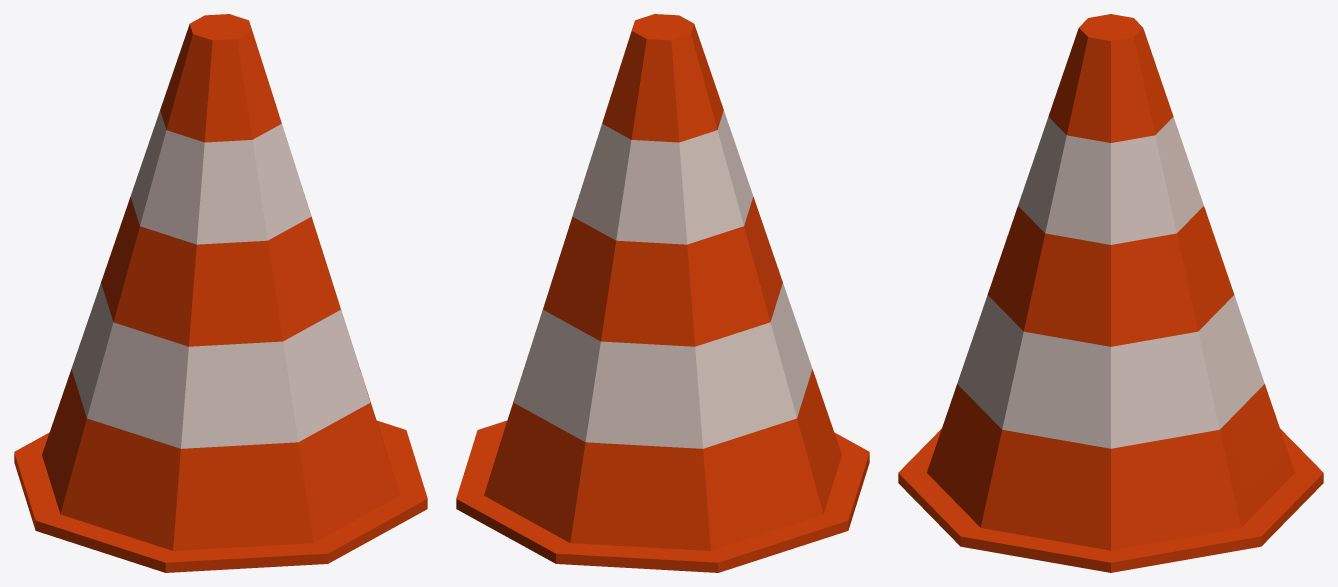
Rendered from SM_bumper04.FBX.
3 views of the same model, side by side, from view 1: azimuth 30°, elevation 25°; view 2: azimuth 150°, elevation 25°; view 3: azimuth 270°, elevation 25° (orthographic).
Visible parts, largest first — view 1: bumper04; view 2: bumper04; view 3: bumper04.
Part boxes in pixels (<box>): bumper04: <box>14,14,427,572</box>; bumper04: <box>456,14,869,572</box>; bumper04: <box>898,14,1323,572</box>.
Bounding box in the file's own units: 40.84 × 48.24 × 40.84.
